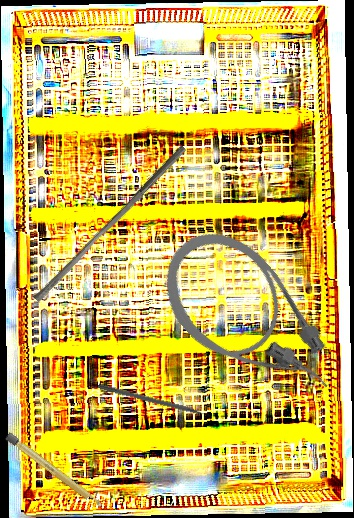Cannula: (142, 210, 354, 433)
Pusher: (32, 139, 188, 308), (97, 383, 219, 422)
Scalpel Handle: (3, 431, 106, 512)
